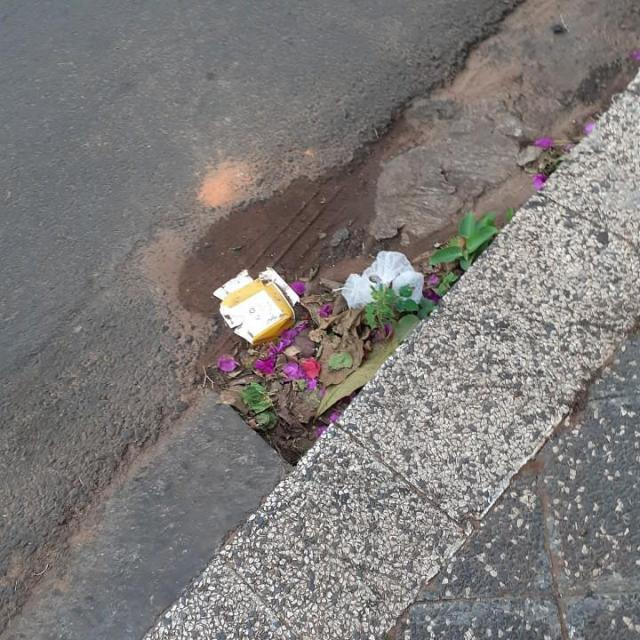litter: (212, 269, 298, 345), (343, 253, 424, 308)
